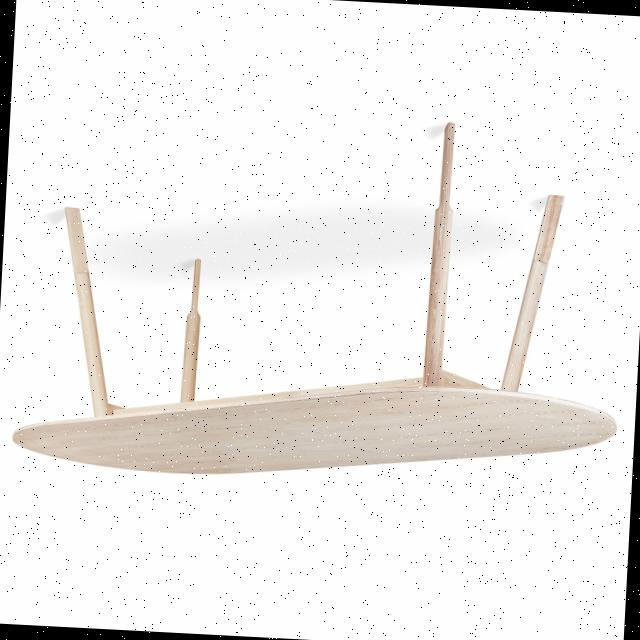Table: (0, 63, 637, 518)
